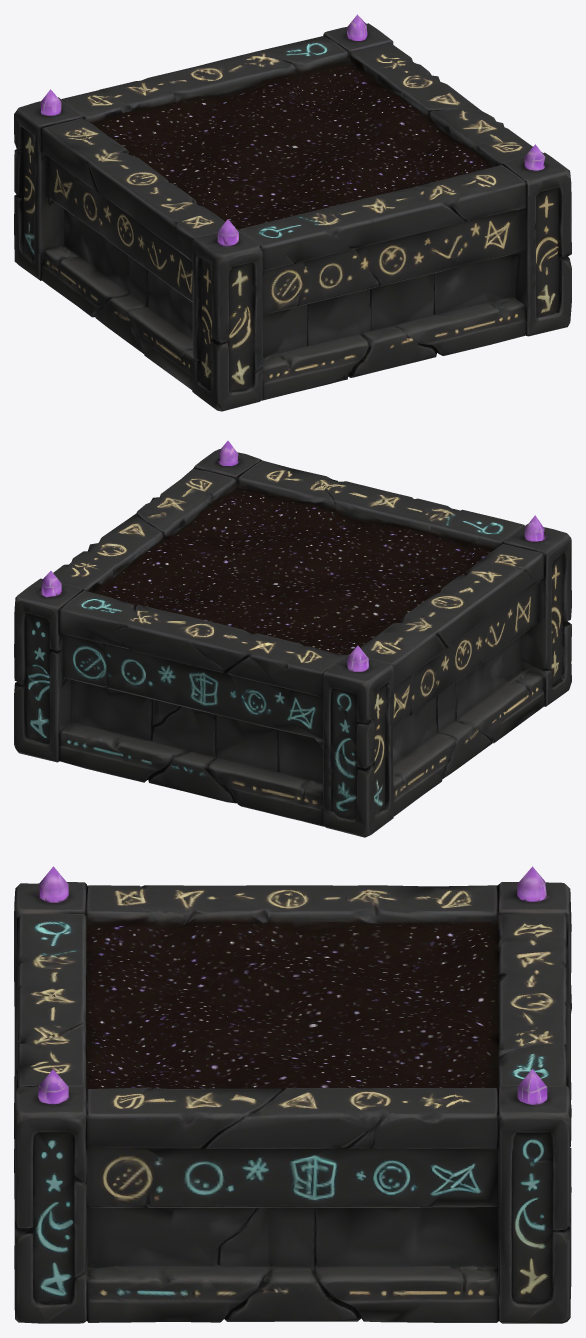
The model's file is gardner-plant-box.glb.
3 views of the same model, one above another, from view 1: azimuth 30°, elevation 25°; view 2: azimuth 150°, elevation 25°; view 3: azimuth 270°, elevation 25° (orthographic). The views are drawn at different scales.
Parts seen in each view (by area): view 1: Mesh::generatedModels/IVdfl4QeEMqt7VE4qcvS.gltf; view 2: Mesh::generatedModels/IVdfl4QeEMqt7VE4qcvS.gltf; view 3: Mesh::generatedModels/IVdfl4QeEMqt7VE4qcvS.gltf.
Boxes of the visible parts, left/top/right/bottom form: Mesh::generatedModels/IVdfl4QeEMqt7VE4qcvS.gltf: left=14, top=14, right=571, bottom=411; Mesh::generatedModels/IVdfl4QeEMqt7VE4qcvS.gltf: left=14, top=440, right=571, bottom=837; Mesh::generatedModels/IVdfl4QeEMqt7VE4qcvS.gltf: left=14, top=866, right=571, bottom=1323.
Bounding box in the file's own units: 0.9956 × 0.477 × 1.
1 material, 1 textured.
